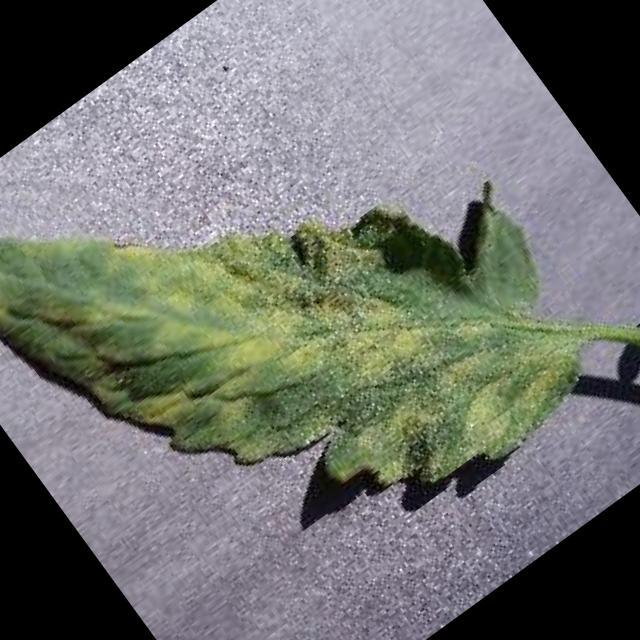Tomato mold leaf: (0, 0, 624, 640)
